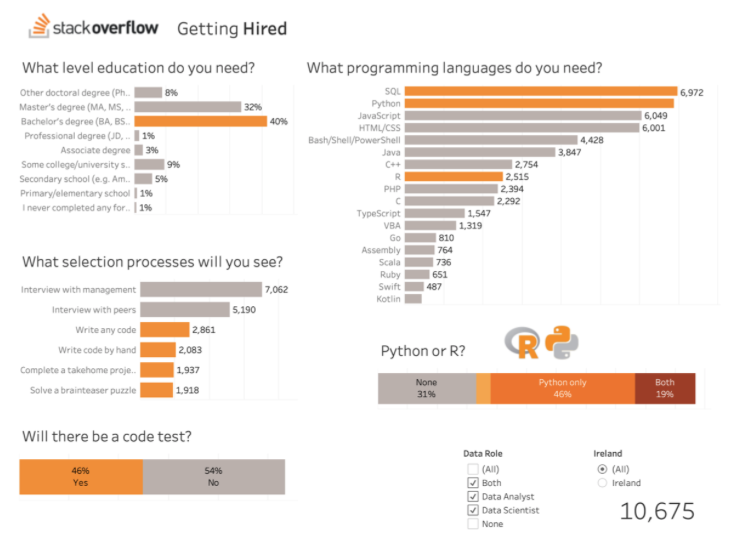

This screenshot's page, from the dashboard's own definition file:
{"tool":"tableau","page":{"name":"2. Getting Hired","canvas":[1000,800],"ordinal":1},"visuals":[{"type":"image","param":"/Users/barrysheppard/Github/B8IT107DataVis/images/stack_overflow.png","box":[8,8,217,64]},{"type":"title","box":[225,8,767,64]},{"type":"worksheet","title":"Education Level","mark":"Automatic","rows":["EdLevel"],"cols":["Number of Records"],"box":[8,72,396,270]},{"type":"worksheet","title":"Languages","mark":"Automatic","box":[404,72,588,547]},{"type":"worksheet","title":"Interview Questions","mark":"Automatic","box":[8,342,396,243]},{"type":"image","param":"/Users/barrysheppard/Github/B8IT107DataVis/images/r_or_python.jpg","box":[580,444,321,67]},{"type":"worksheet","title":"Python or R?","mark":"Automatic","cols":["python_or_r"],"box":[511,470,464,101]},{"type":"worksheet","title":"Coding Test?","mark":"Automatic","cols":["Number of Records"],"box":[8,585,396,165]},{"type":"blank","box":[404,619,222,131]},{"type":"filter","title":"Education Level","param":"[federated.1a2aqu8180pfx518255rt1lipdfz].[none:data_role:nk]","box":[626,619,181,131]},{"type":"filter","title":"Languages","param":"[federated.1a2aqu8180pfx518255rt1lipdfz].[none:Ireland:nk]","box":[807,619,185,65.5]},{"type":"worksheet","title":"Total Number","mark":"Automatic","box":[807,684.5,185,65.5]},{"type":"blank","box":[8,750,984,42]}]}

Visuals, with their boxes on the page's 1000x800 design canvas (x1, y1, x2, y2). These are canvas units, not pixel positions in the 738x534 screenshot, which may show the page scaled, cropped or inside an application window:
image: x1=8, y1=8, x2=225, y2=72
title: x1=225, y1=8, x2=992, y2=72
"Education Level" worksheet: x1=8, y1=72, x2=404, y2=342
"Languages" worksheet: x1=404, y1=72, x2=992, y2=619
"Interview Questions" worksheet: x1=8, y1=342, x2=404, y2=585
image: x1=580, y1=444, x2=901, y2=511
"Python or R?" worksheet: x1=511, y1=470, x2=975, y2=571
"Coding Test?" worksheet: x1=8, y1=585, x2=404, y2=750
blank: x1=404, y1=619, x2=626, y2=750
"Education Level" filter: x1=626, y1=619, x2=807, y2=750
"Languages" filter: x1=807, y1=619, x2=992, y2=684
"Total Number" worksheet: x1=807, y1=684, x2=992, y2=750
blank: x1=8, y1=750, x2=992, y2=792
